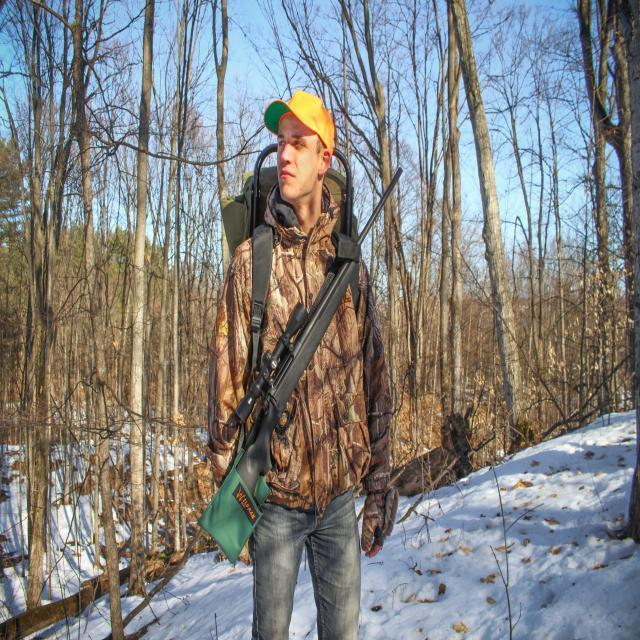weapon: (200, 167, 406, 576)
